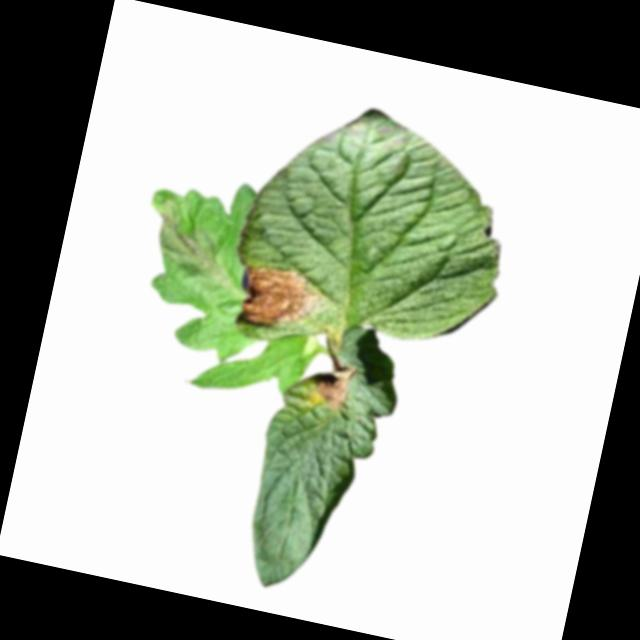Late_blight: (232, 258, 328, 339), (147, 200, 236, 286), (303, 357, 360, 413)
